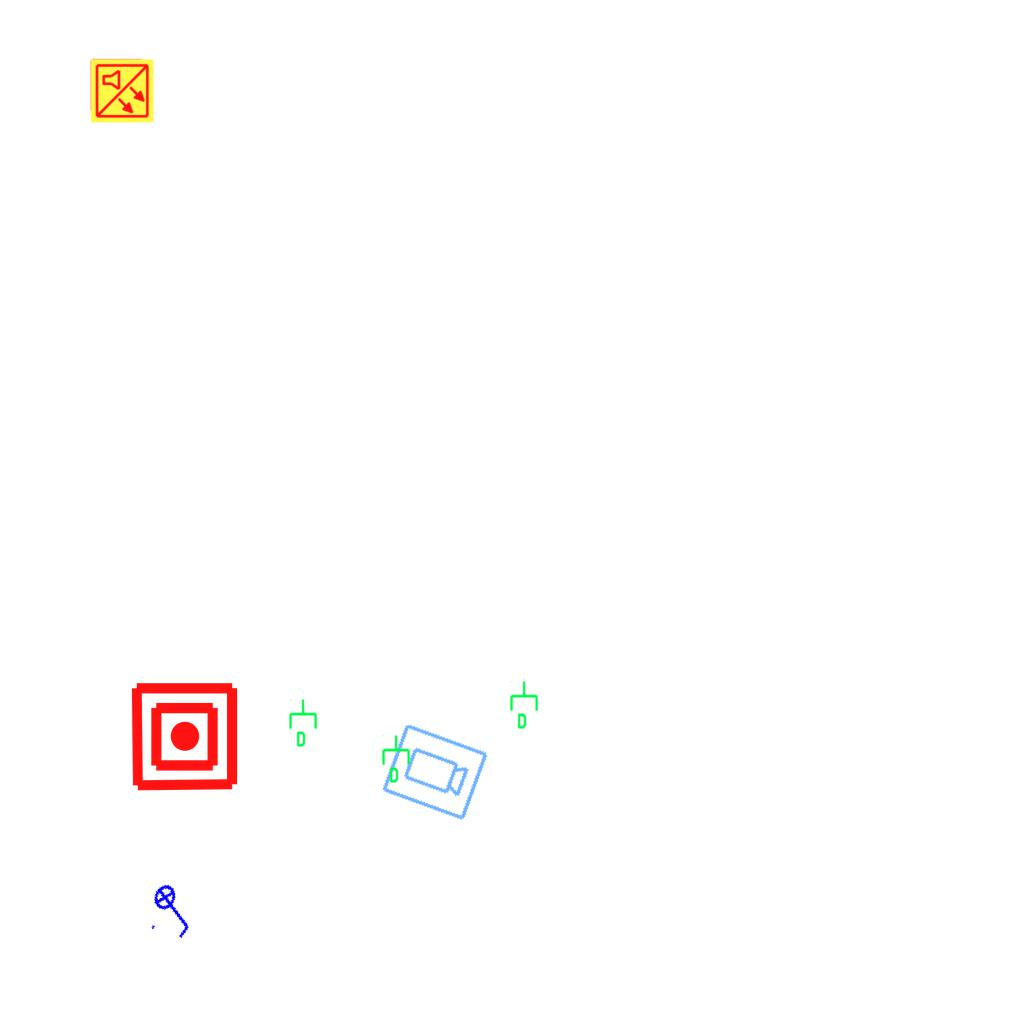Ausschalter_beleuchtet: (141, 875, 207, 945)
Datenanschluss_einfach: (508, 680, 542, 730), (287, 698, 321, 748), (380, 734, 414, 784)
KFO_Kamera_mit_Festobjektiv: (378, 720, 491, 825)
NAM-Nichtautomatischer_Melder: (128, 680, 241, 793)
OKW_Multisensormelder_(Kombination_optischer_Rauch-Kahlenmonoxid_Waerme-Melder): (89, 58, 155, 124)
